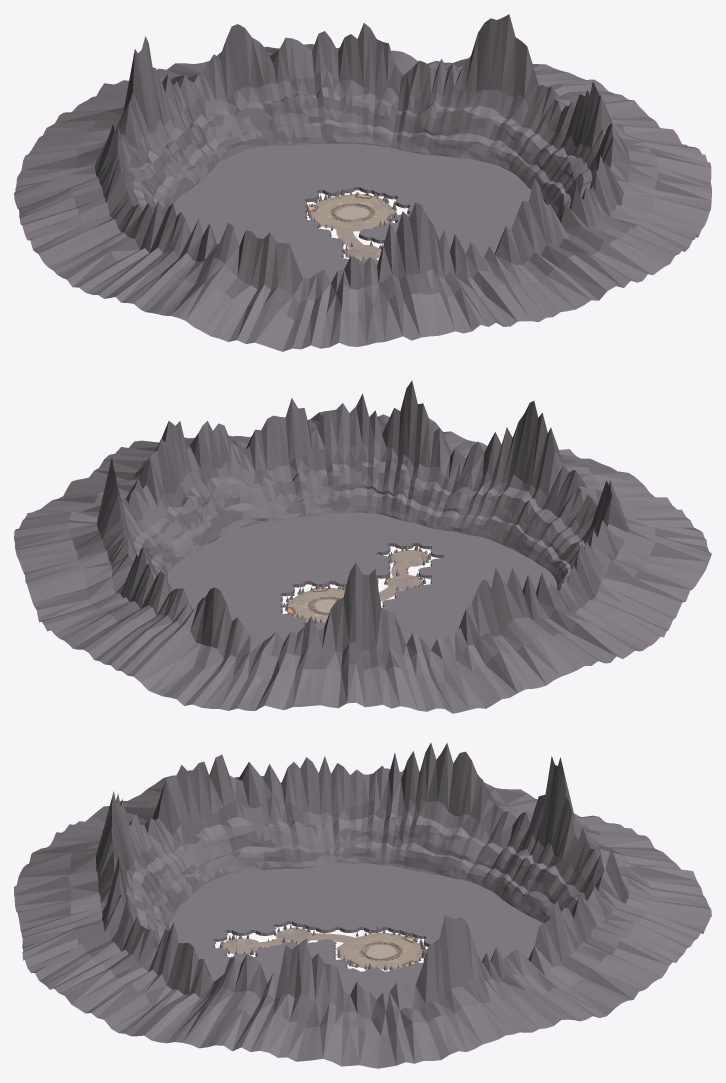
Rendered from map_dg_covil_dragao.glb.
3 views of the same model, one above another, from view 1: azimuth 30°, elevation 25°; view 2: azimuth 150°, elevation 25°; view 3: azimuth 270°, elevation 25° (orthographic).
Visible parts, largest first — view 1: Z_dg_covil_dragao_penhascos, Z_dg_covil_dragao_morro_parede_0_0, Z_dg_covil_dragao_chao_covil, Z_dg_covil_dragao_det_chao_0_-1; view 2: Z_dg_covil_dragao_penhascos, Z_dg_covil_dragao_morro_parede_0_0, Z_dg_covil_dragao_det_chao_0_-1, Z_dg_covil_dragao_chao_covil; view 3: Z_dg_covil_dragao_penhascos, Z_dg_covil_dragao_morro_parede_0_0, Z_dg_covil_dragao_chao_covil, Z_dg_covil_dragao_det_chao_0_-1.
Boxes of the visible parts, x1,y1,x2,y2 form: Z_dg_covil_dragao_penhascos: [14, 14, 711, 351]; Z_dg_covil_dragao_morro_parede_0_0: [173, 143, 547, 282]; Z_dg_covil_dragao_chao_covil: [314, 196, 389, 228]; Z_dg_covil_dragao_det_chao_0_-1: [331, 194, 397, 226]; Z_dg_covil_dragao_penhascos: [14, 380, 711, 713]; Z_dg_covil_dragao_morro_parede_0_0: [168, 512, 557, 649]; Z_dg_covil_dragao_det_chao_0_-1: [285, 587, 336, 615]; Z_dg_covil_dragao_chao_covil: [289, 590, 344, 621]; Z_dg_covil_dragao_penhascos: [14, 743, 711, 1068]; Z_dg_covil_dragao_morro_parede_0_0: [168, 863, 543, 999]; Z_dg_covil_dragao_chao_covil: [341, 934, 416, 967]; Z_dg_covil_dragao_det_chao_0_-1: [346, 942, 416, 968].
Size of the model in its own units: 281 by 62.02 by 283.
